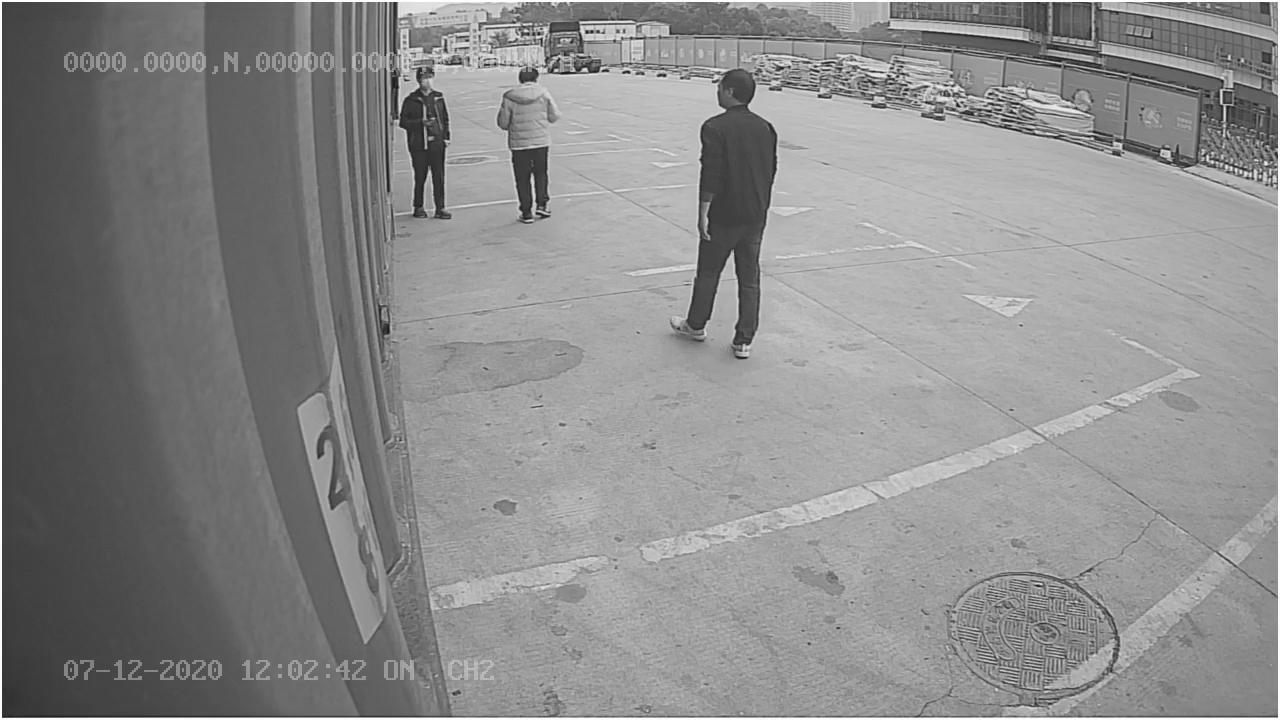person: (665, 64, 781, 362)
